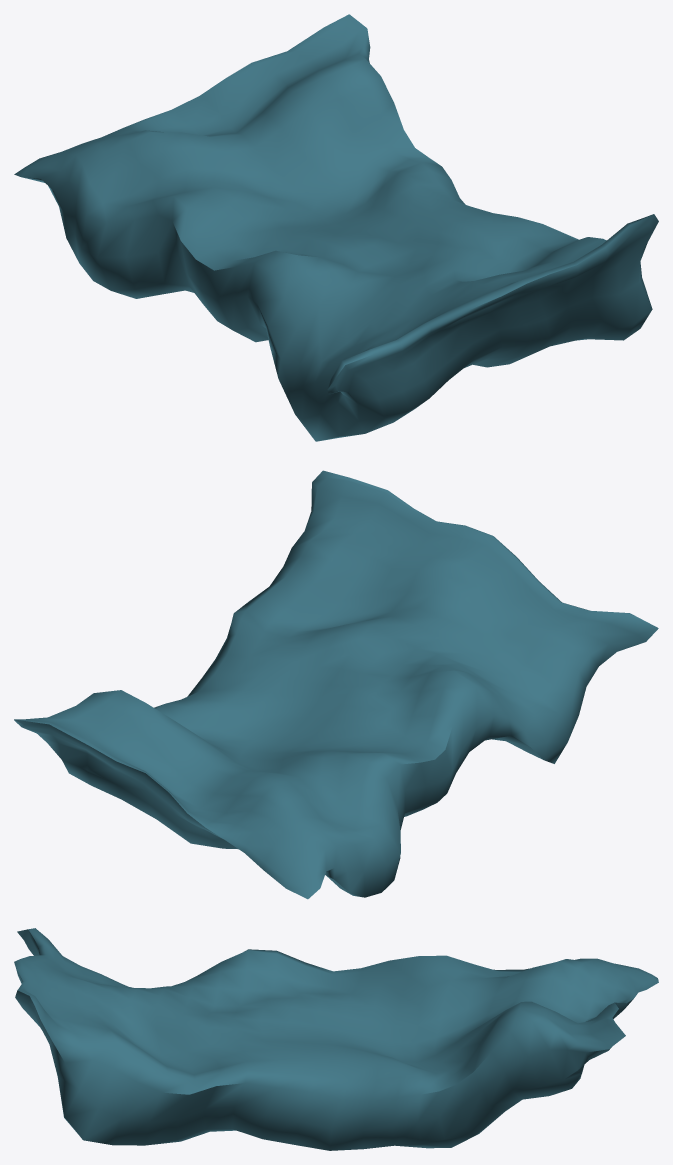
The model's file is SM_SmallTrashkit_snacks2_002.fbx.
3 views of the same model, one above another, from view 1: azimuth 30°, elevation 25°; view 2: azimuth 150°, elevation 25°; view 3: azimuth 270°, elevation 25° (orthographic). The views are drawn at different scales.
Visible parts, largest first — view 1: SM_SmallTrashkit_snacks2_002; view 2: SM_SmallTrashkit_snacks2_002; view 3: SM_SmallTrashkit_snacks2_002.
Part boxes in pixels (x1,y1,x2,y2): SM_SmallTrashkit_snacks2_002: (14, 14, 658, 441); SM_SmallTrashkit_snacks2_002: (14, 470, 658, 899); SM_SmallTrashkit_snacks2_002: (14, 928, 658, 1150).
Bounding box in the file's own units: 23.08 × 12.22 × 38.62.
